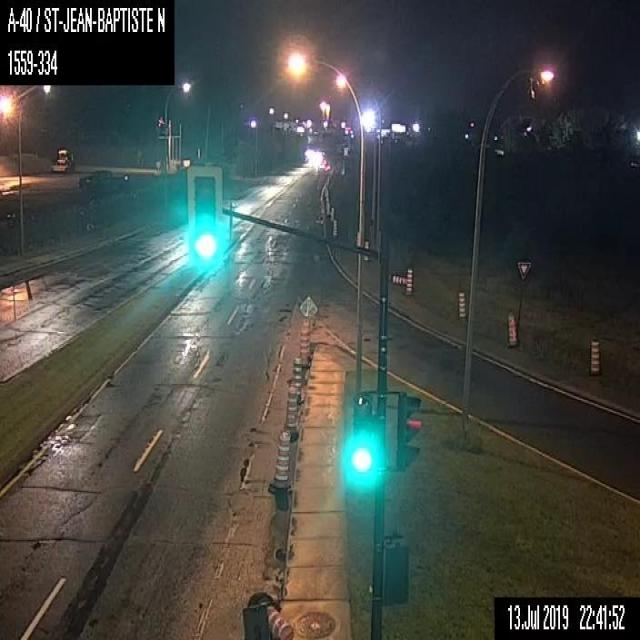construction: (242, 589, 293, 639), (269, 429, 290, 491), (282, 384, 297, 440), (299, 316, 311, 366), (290, 354, 302, 404), (588, 339, 600, 373), (506, 308, 516, 344), (405, 267, 413, 296), (456, 290, 464, 318), (391, 275, 406, 285), (363, 240, 369, 262), (333, 218, 336, 235), (330, 206, 333, 220), (326, 201, 329, 215), (325, 190, 328, 204)
vehicle: (79, 169, 129, 189)
